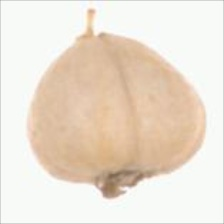L3: (74, 8, 119, 42)
L4: (27, 8, 207, 197)
